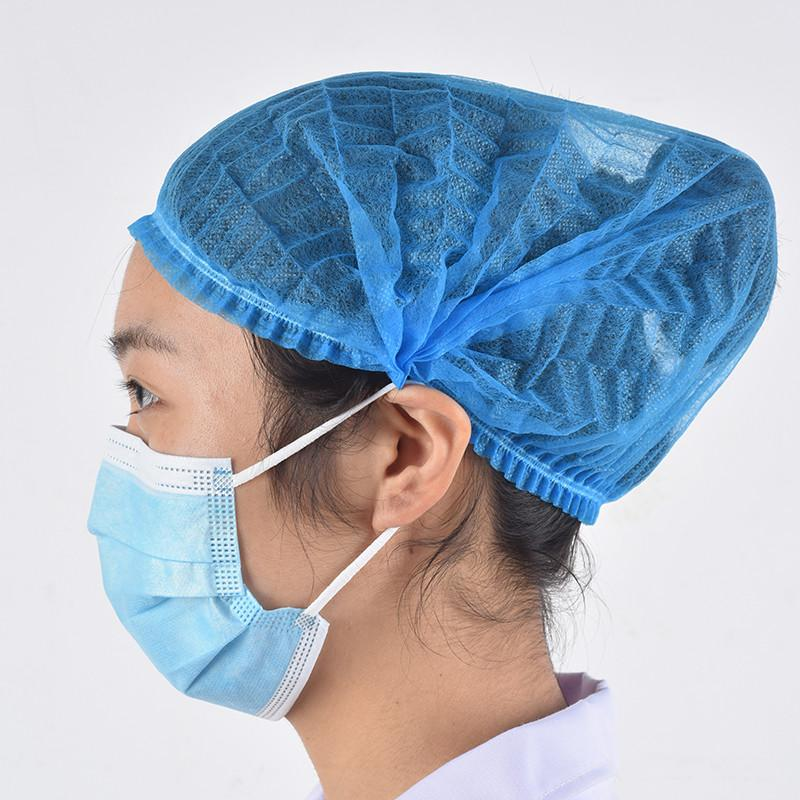hairnet: (118, 83, 795, 524)
mask: (38, 401, 469, 756)
